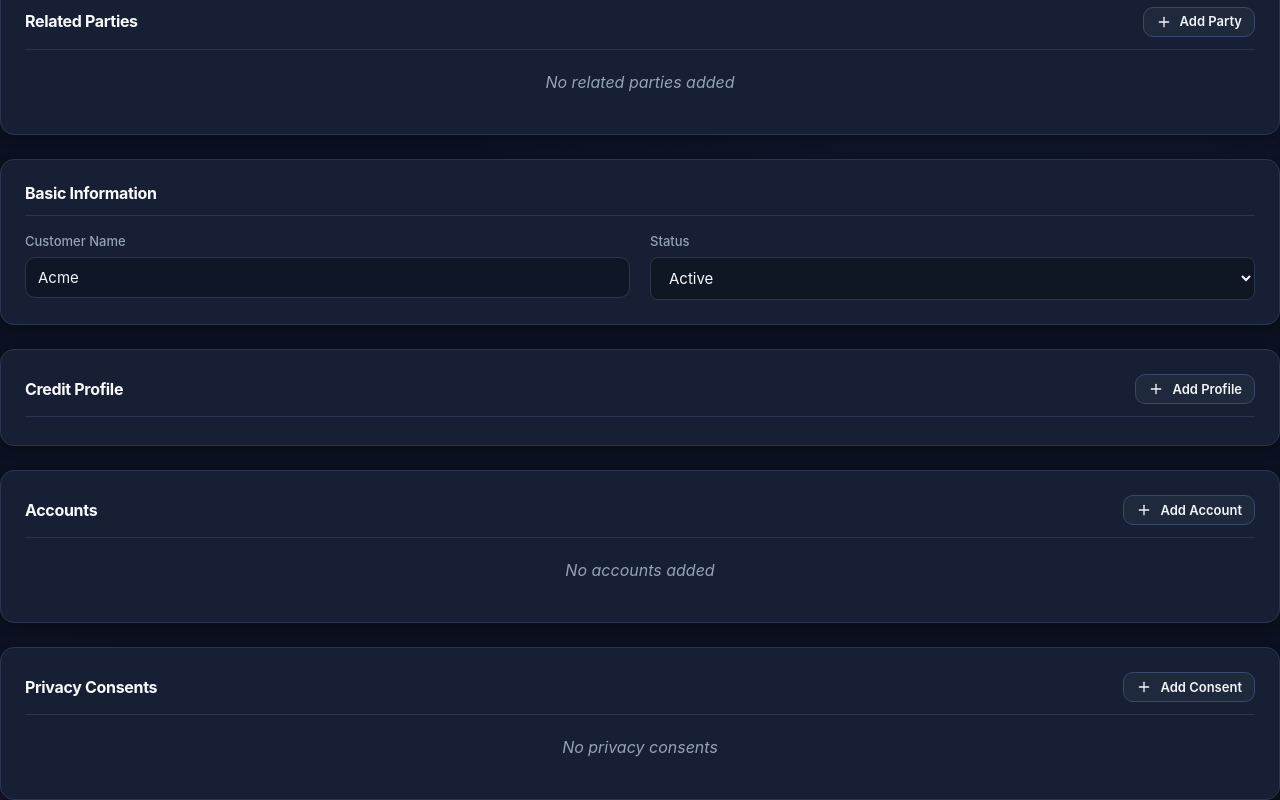
it: CustomerEditForm › adds, edits and removes privacy consents
(page scrolled)
expect the text "No privacy consents" is shown: met, box [562,737,718,757]
Click the button "Add Consent".
click(1189, 687)  # box [1123,672,1255,702]
(page scrolled)
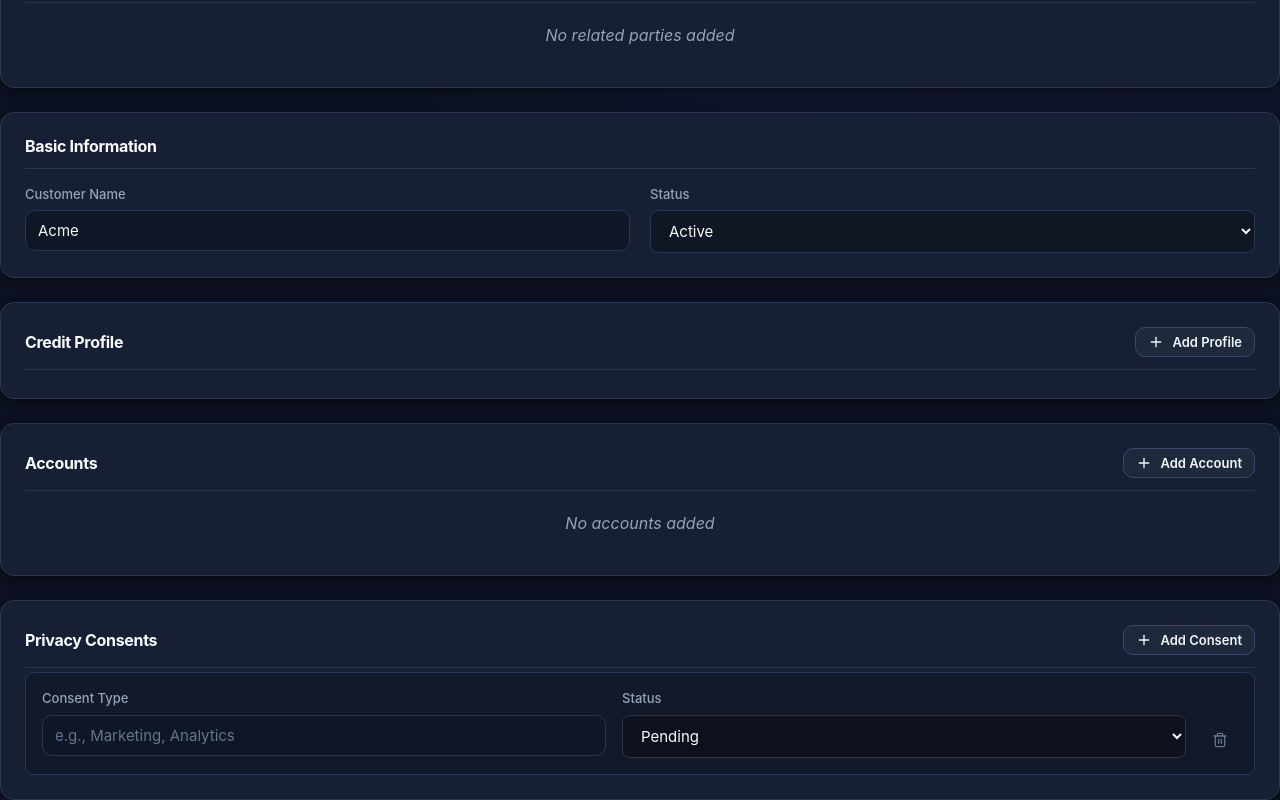
Type "Marketing" into the field with placeholder "e.g., Marketing, Analytics".
click(324, 735); type("Marketing")  # box [42,715,606,756]
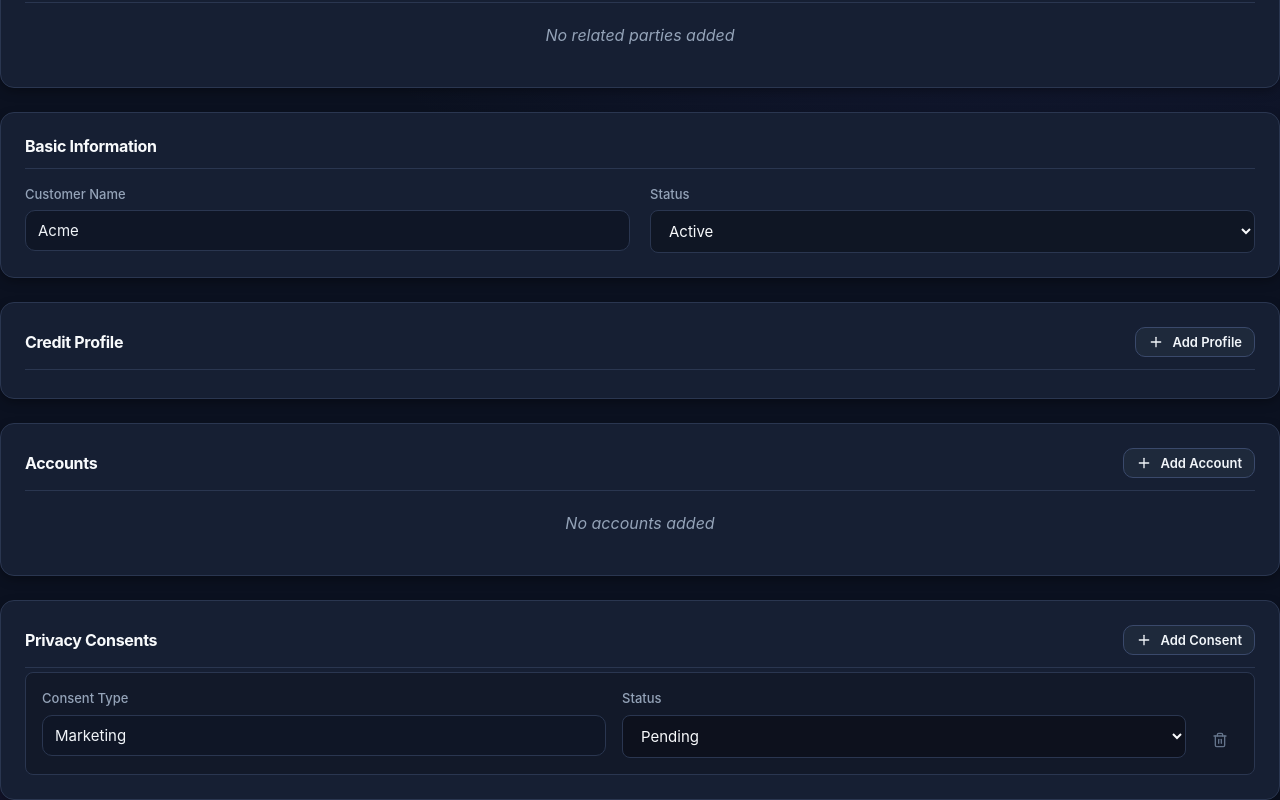
Select "Given" in the 2nd dropdown at (904, 736), box [622,715,1186,758]
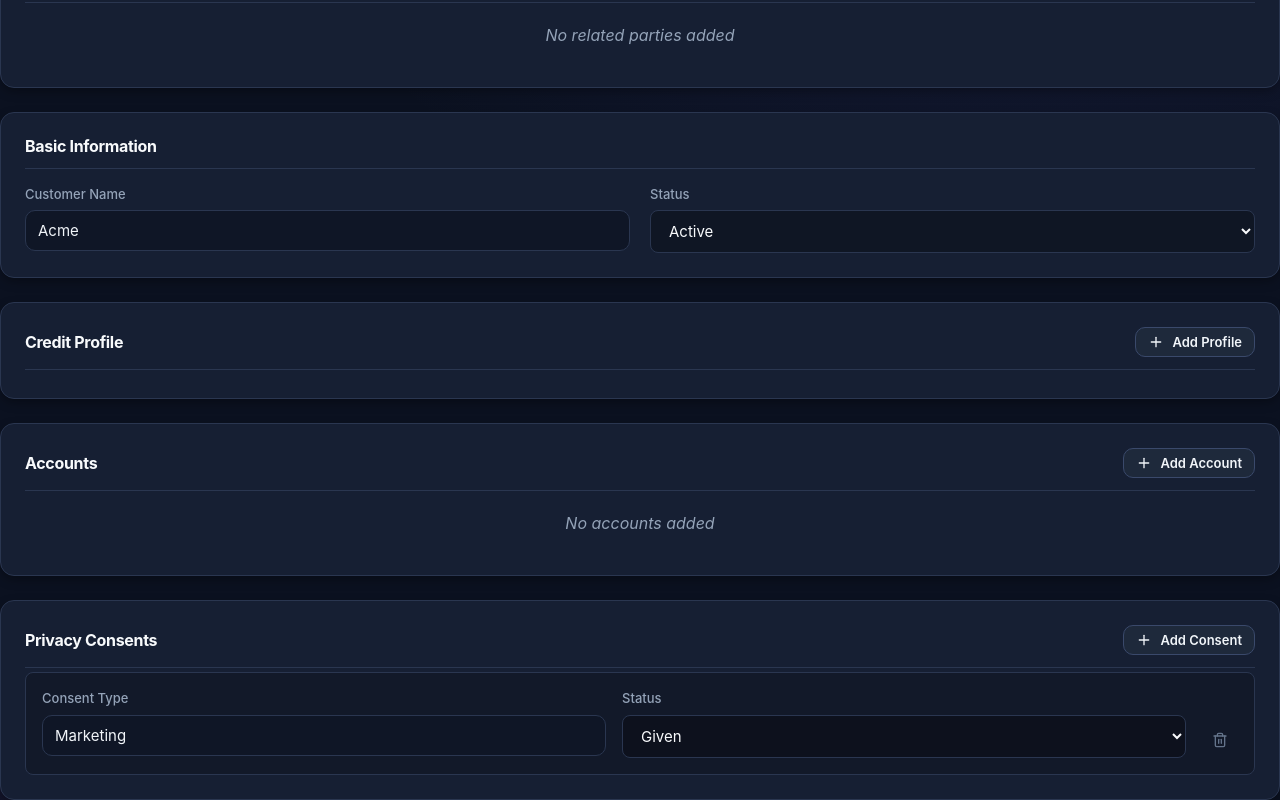
Click the 4th button.
click(1220, 740)  # box [1202,722,1238,758]
(page scrolled)
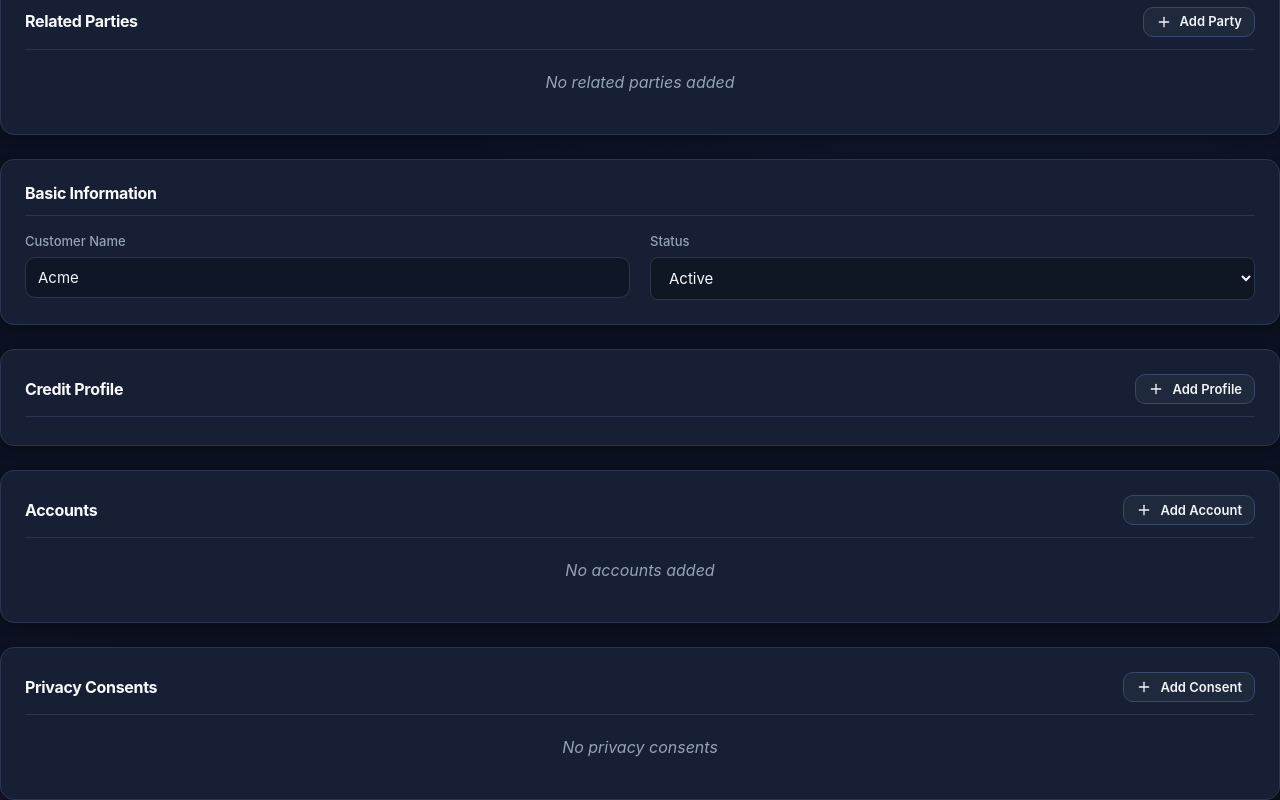
expect the text "No privacy consents" is shown: met, box [562,737,718,757]
